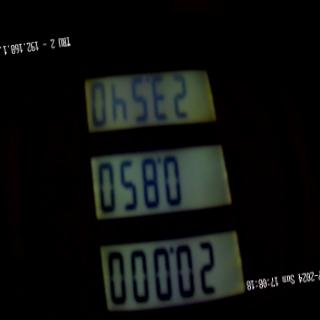screen: (62, 24, 250, 320)
